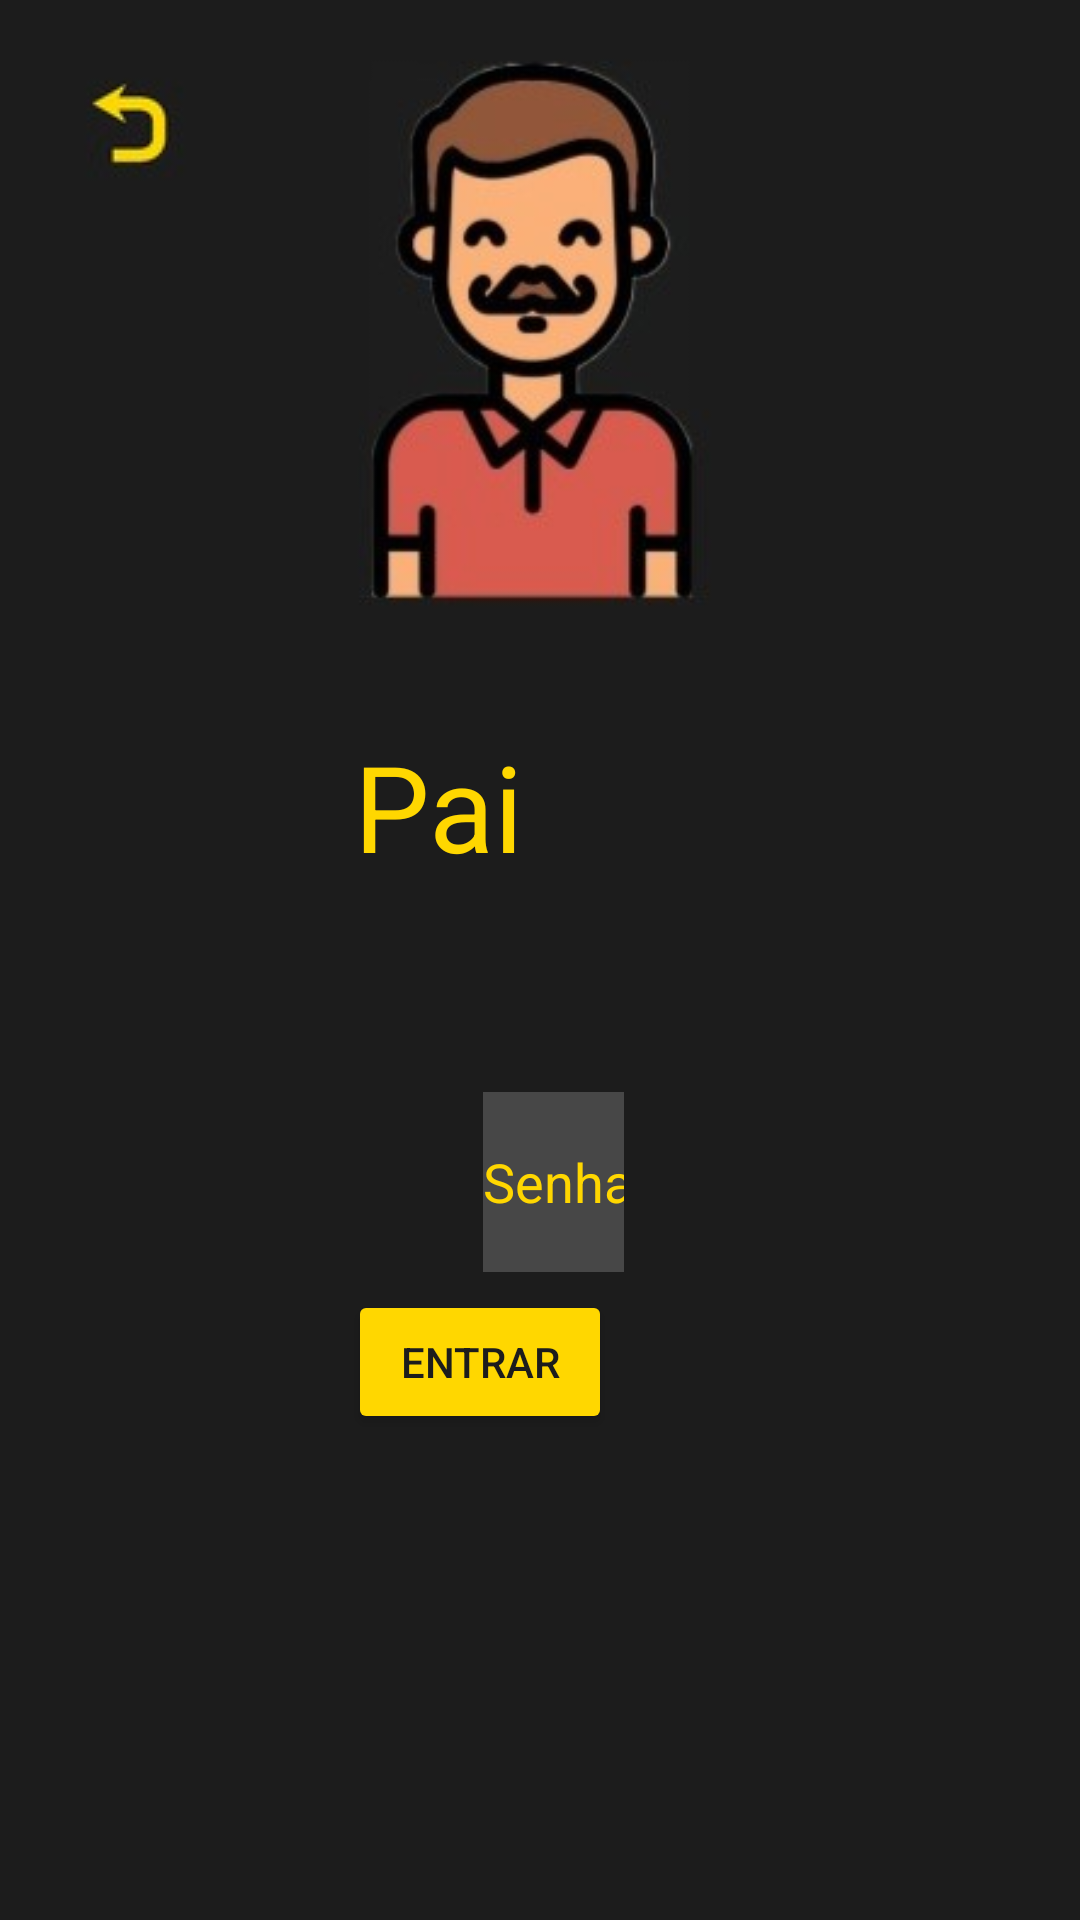

Named icons in this screenshot (1080×1920) and their centers, point (x, y):
retorna: point (131, 125)
